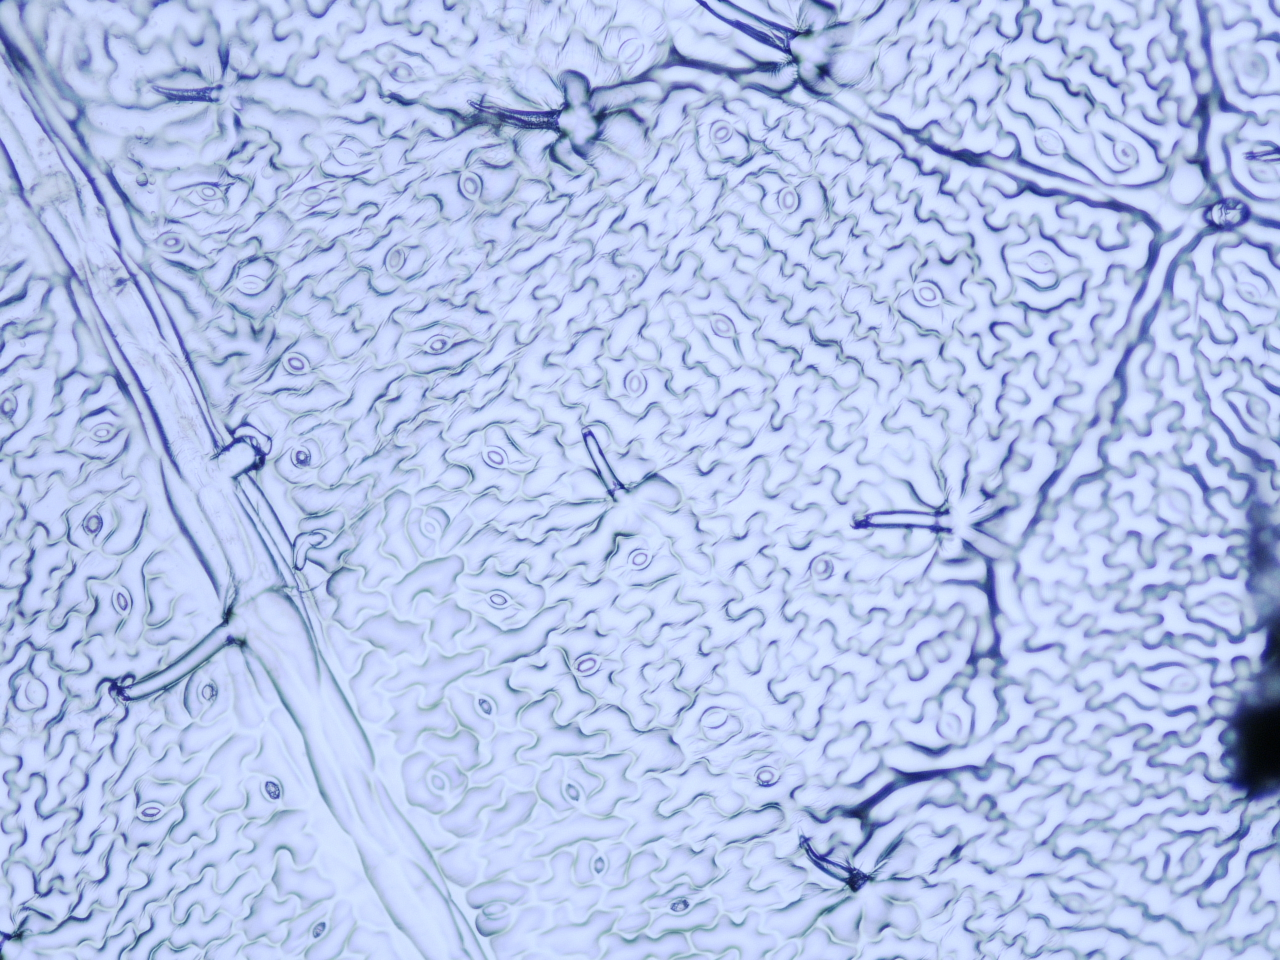estoma: (1034, 123, 1069, 160), (1240, 44, 1272, 85), (1059, 888, 1099, 920), (1023, 246, 1062, 276), (453, 171, 488, 205), (233, 270, 270, 301), (1233, 277, 1267, 310), (567, 649, 603, 681), (697, 704, 733, 735), (911, 278, 948, 308), (479, 894, 518, 922), (424, 762, 453, 800), (1167, 672, 1206, 698), (418, 331, 456, 358), (279, 349, 314, 377), (479, 444, 511, 474), (1243, 390, 1271, 425), (469, 694, 503, 722), (621, 366, 648, 401), (750, 765, 786, 792), (1111, 138, 1141, 169), (557, 775, 585, 810), (1206, 592, 1243, 617), (24, 672, 49, 708), (708, 311, 739, 340), (483, 588, 517, 614), (776, 182, 802, 215), (259, 775, 287, 806), (131, 801, 168, 823), (939, 713, 963, 747), (808, 554, 835, 584), (191, 179, 224, 204), (383, 243, 407, 275), (291, 442, 316, 471), (627, 547, 653, 574), (110, 591, 136, 618), (590, 843, 608, 882), (419, 513, 443, 543), (382, 61, 416, 81), (708, 119, 735, 144), (665, 893, 695, 916), (299, 186, 331, 207), (311, 916, 336, 943), (156, 230, 185, 251), (86, 422, 118, 441), (622, 38, 644, 66), (198, 680, 218, 709), (1, 391, 19, 421), (84, 512, 104, 537)
